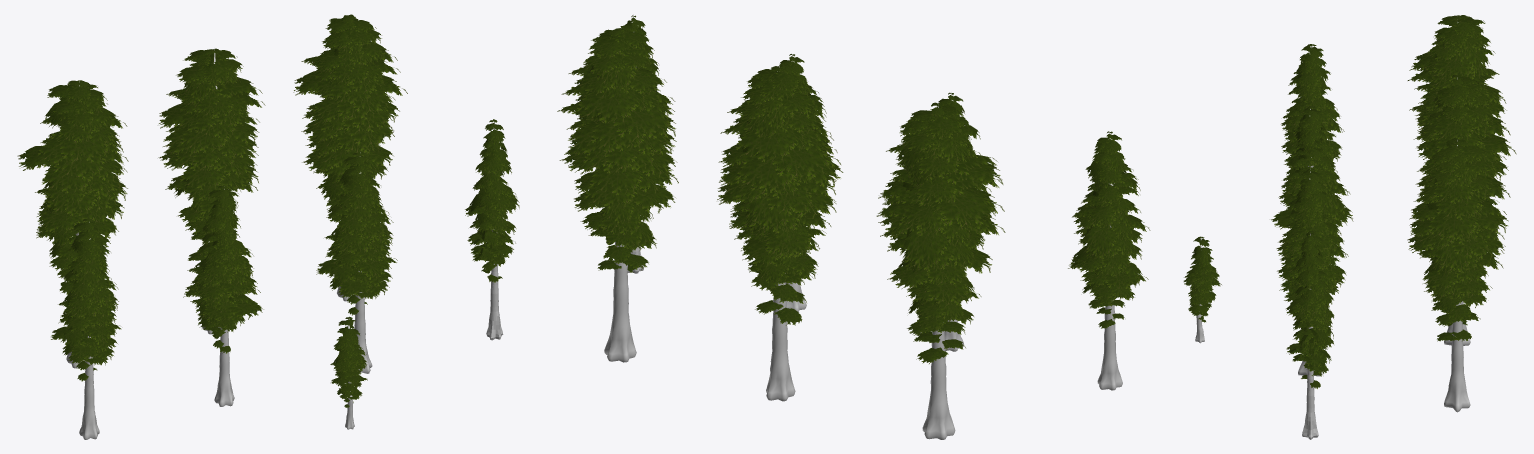
File: RedwoodTreesDisplayScene.fbx
3 renders of one model, left to right at view 1: azimuth 30°, elevation 25°; view 2: azimuth 150°, elevation 25°; view 3: azimuth 270°, elevation 25°, orthographic. The views are drawn at different scales.
Visible parts, largest first — view 1: TreePackDisplayScene; view 2: TreePackDisplayScene; view 3: TreePackDisplayScene.
Boxes of the visible parts, x1,y1,x2,y2 form: TreePackDisplayScene: (17,14,519,439); TreePackDisplayScene: (557,14,1150,439); TreePackDisplayScene: (1183,15,1516,439).
Size of the model in its own units: 6896 by 4002 by 4584.
